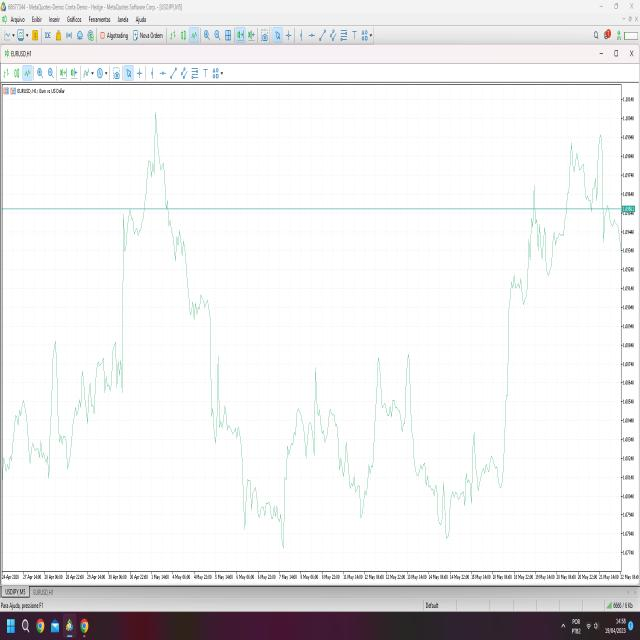bandeira_alta: (499, 256, 526, 500)
bandeira_baixa: (199, 268, 241, 449), (179, 232, 215, 327)
oco: (104, 96, 202, 278)
